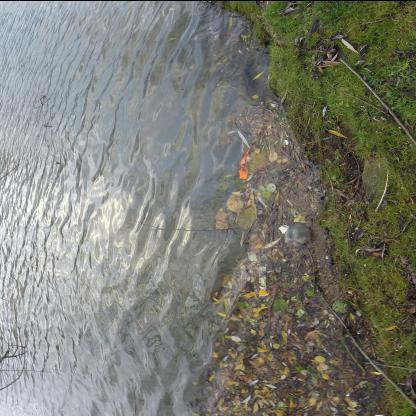plastik: (285, 223, 311, 247)
